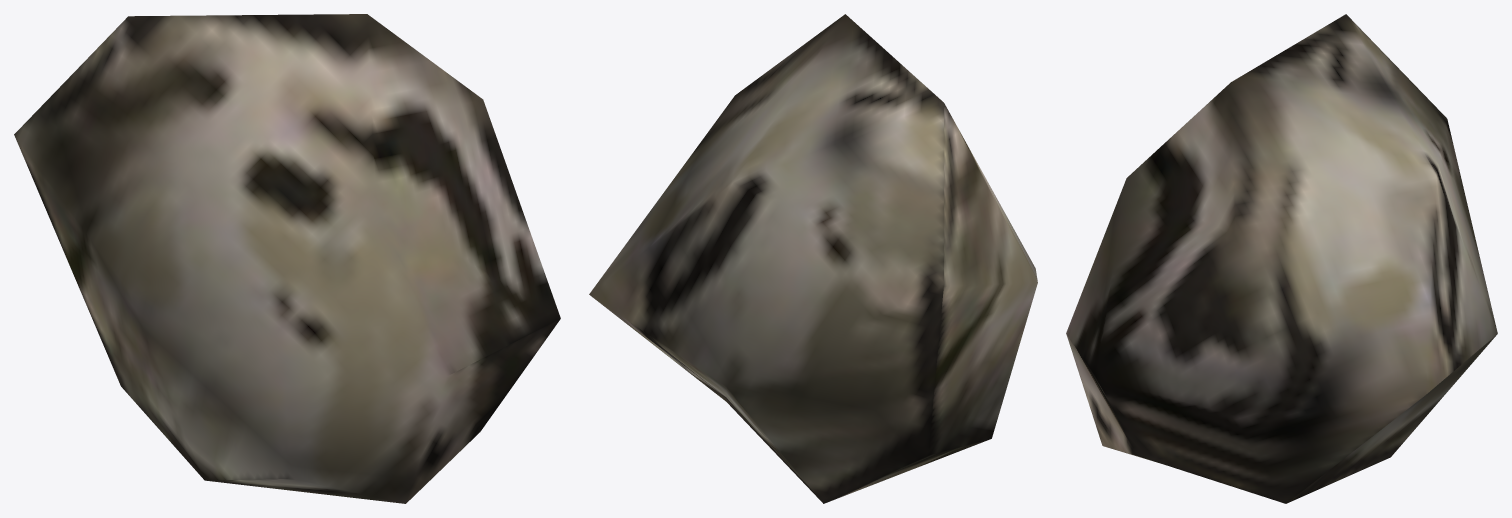
File: WP_OniRanged.FBX
3 views of the same model, side by side, from view 1: azimuth 30°, elevation 25°; view 2: azimuth 150°, elevation 25°; view 3: azimuth 270°, elevation 25° (orthographic). The views are drawn at different scales.
Visible parts, largest first — view 1: WP_OniRanged; view 2: WP_OniRanged; view 3: WP_OniRanged.
Part boxes in pixels (left/top/right/bottom): WP_OniRanged: left=14, top=14, right=560, bottom=503; WP_OniRanged: left=589, top=14, right=1037, bottom=503; WP_OniRanged: left=1066, top=14, right=1497, bottom=503.
Bounding box in the file's own units: 23.75 × 26.61 × 24.93.
Materials: 1 (1 with a texture image).
